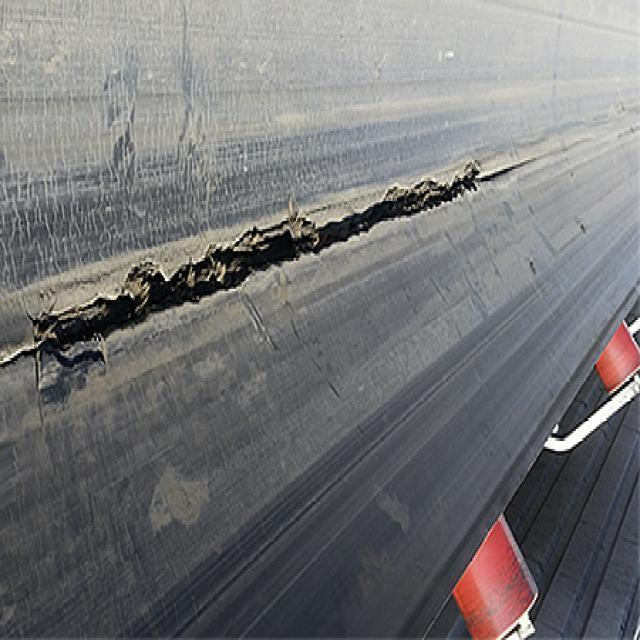Tear: (0, 144, 543, 398)
